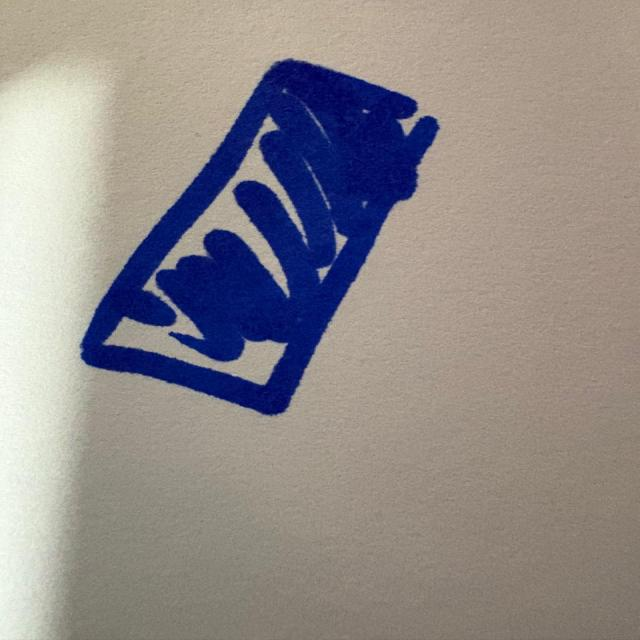Rectangle: (67, 49, 450, 426)
